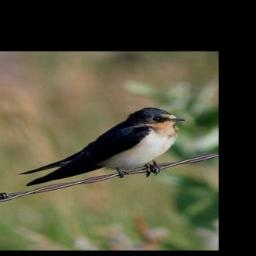Swallow: (19, 105, 187, 190)
